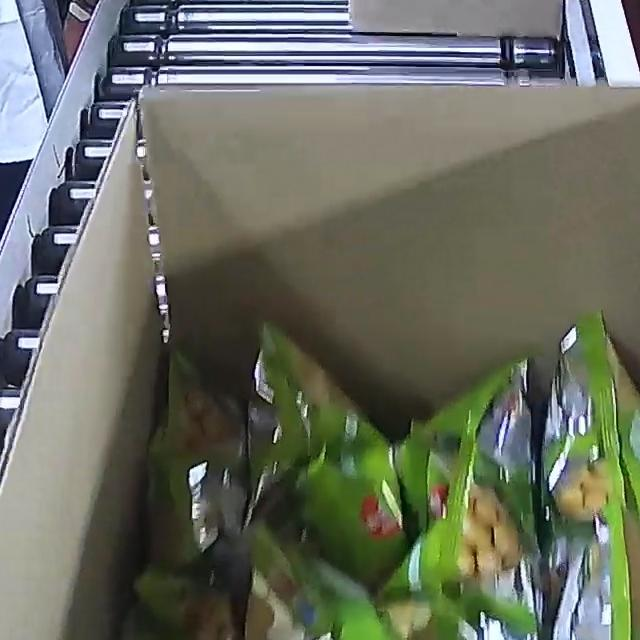yogurt: (165, 270, 640, 640)
